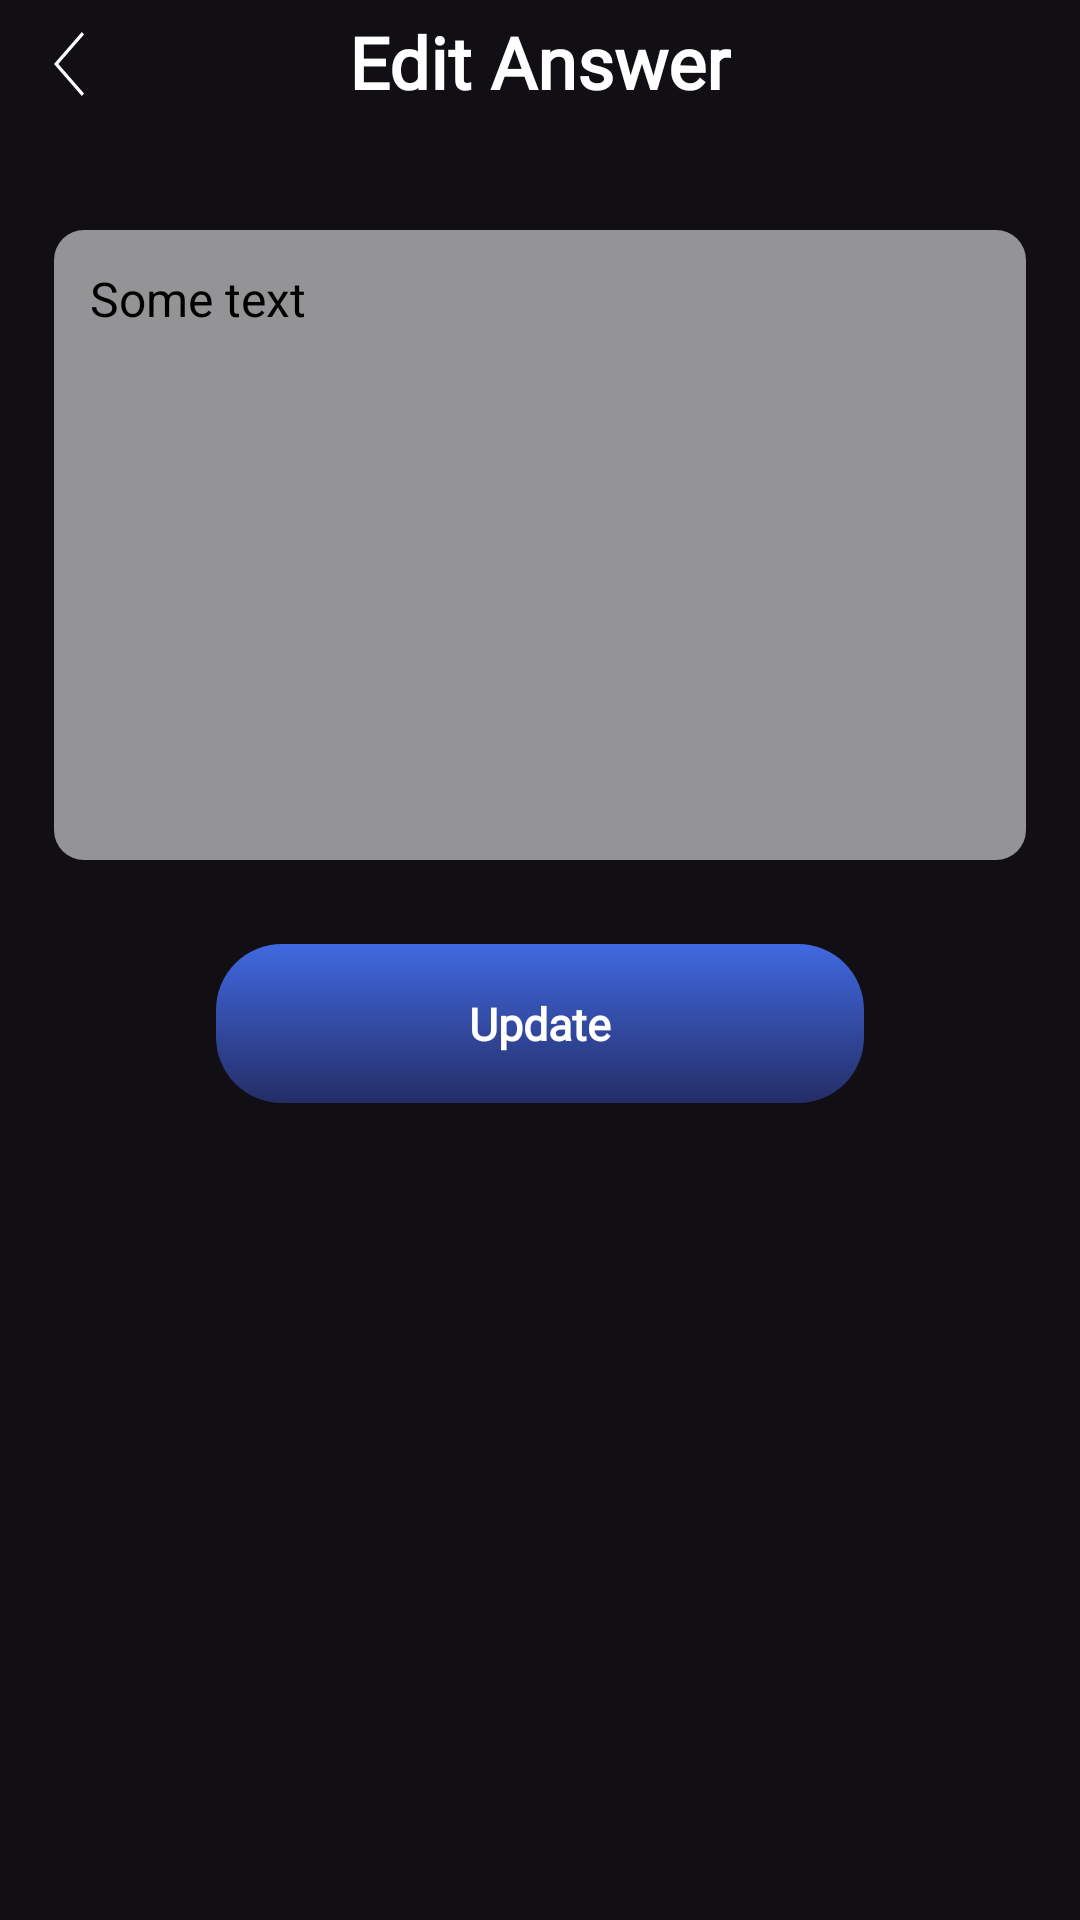

Screen size 1080x1920. Icon name, then its box in pixels as (x1, y1, x2, y2):
back: (54, 32, 84, 96)
